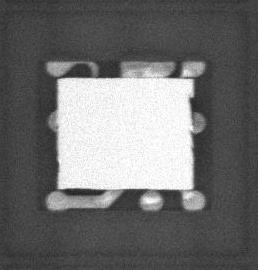DIE_BROKEN: (188, 96, 195, 113)
